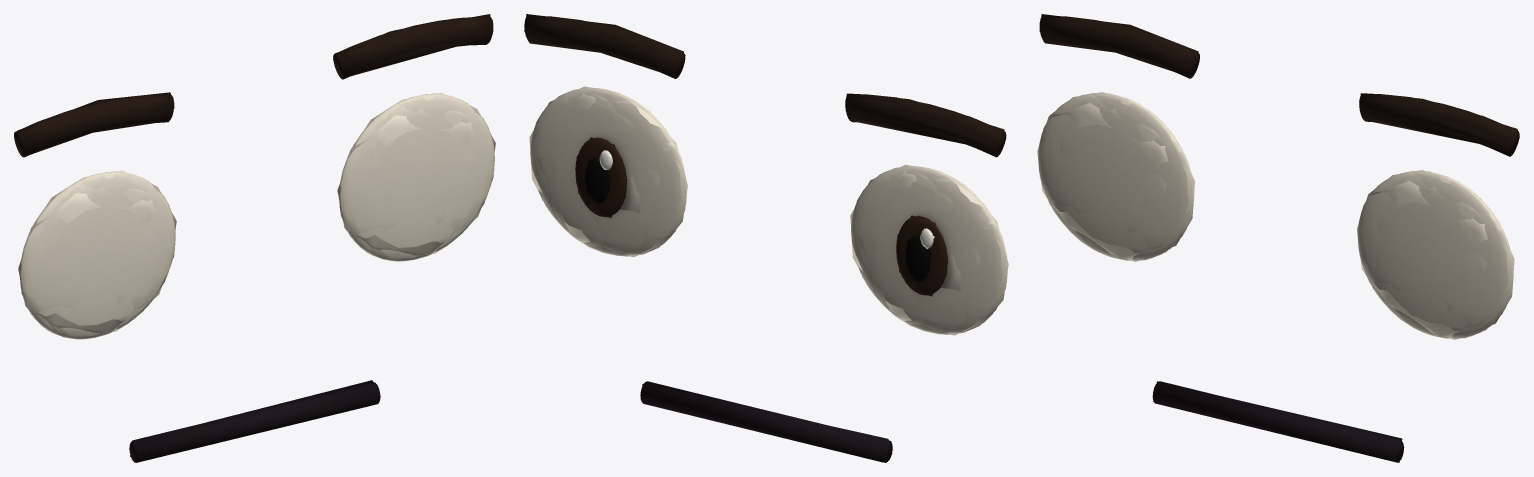
The model's file is neutral.glb.
The picture shows the model from 3 angles, left to right: view 1: azimuth 30°, elevation 25°; view 2: azimuth 150°, elevation 25°; view 3: azimuth 330°, elevation 25°; orthographic projection.
Visible parts, largest first — view 1: near, mid, far; view 2: near, mid, far; view 3: near, mid, far.
Part boxes in pixels (left/top/right/bottom): near: left=14, top=16, right=494, bottom=462; mid: left=14, top=17, right=494, bottom=462; far: left=17, top=14, right=495, bottom=460; near: left=524, top=16, right=1007, bottom=462; mid: left=524, top=17, right=1006, bottom=462; far: left=524, top=14, right=1008, bottom=462; near: left=1038, top=16, right=1519, bottom=462; mid: left=1038, top=17, right=1519, bottom=462; far: left=1037, top=14, right=1519, bottom=462.
Size of the model in its own units: 0.6729 by 0.4958 by 0.0541.
Materials: 6 (6 with a texture image).
